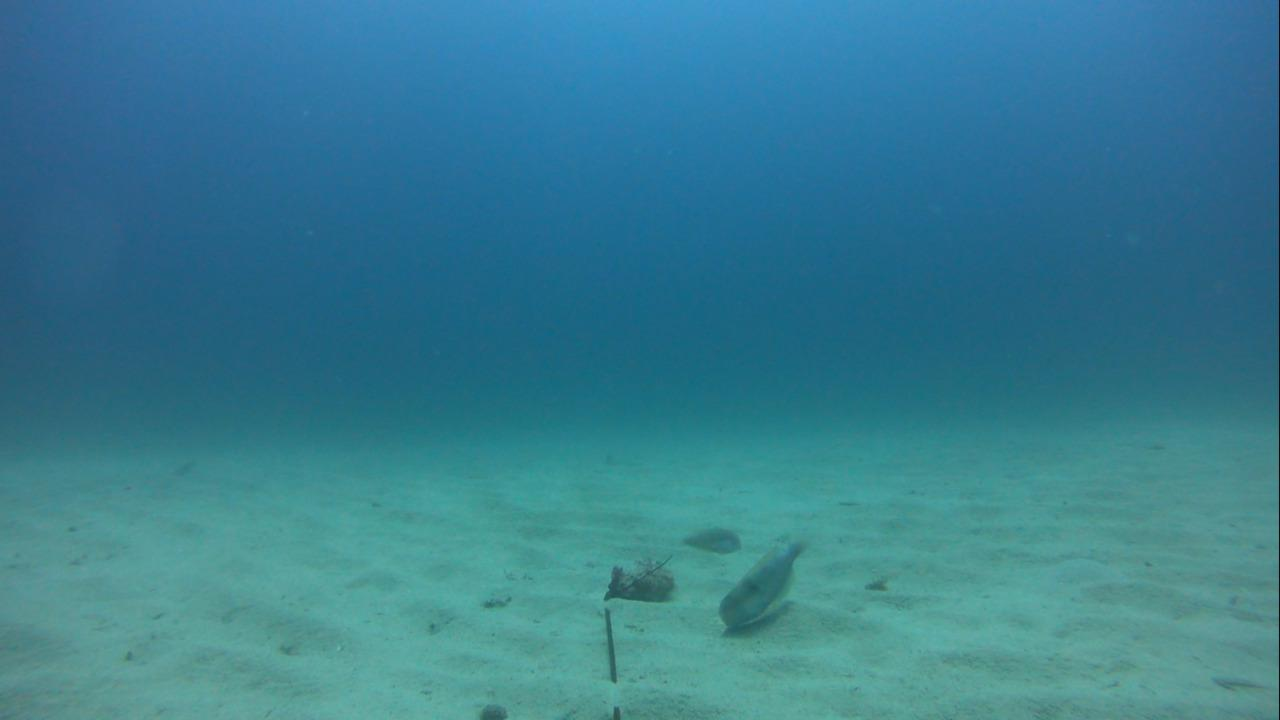raor: (717, 538, 802, 634), (667, 521, 742, 554)
